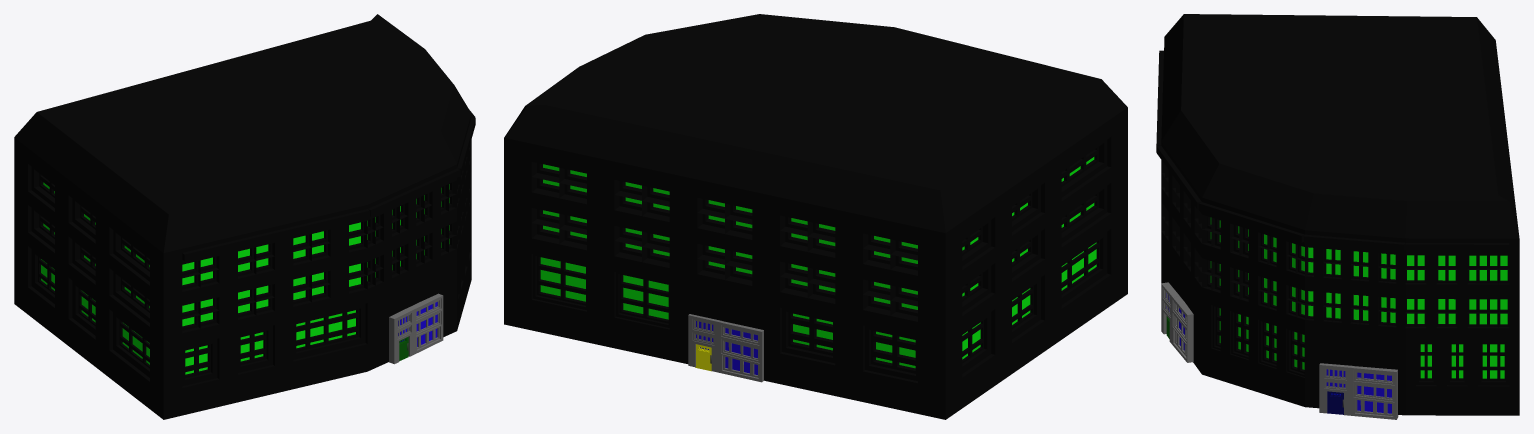
File: KingstonStreetxAltonRoadShops.fbx
3 views of the same model, side by side, from view 1: azimuth 30°, elevation 25°; view 2: azimuth 150°, elevation 25°; view 3: azimuth 270°, elevation 25° (orthographic). The views are drawn at different scales.
Visible parts, largest first — view 1: KSARS, Storefront; view 2: KSARS, Storefront.002; view 3: KSARS, Storefront.001, Storefront, Door.
Part boxes in pixels (<box>): KSARS: <box>14,14,475,419</box>; Storefront: <box>389,293,443,364</box>; KSARS: <box>504,14,1127,419</box>; Storefront.002: <box>688,314,763,382</box>; KSARS: <box>1156,14,1519,415</box>; Storefront.001: <box>1319,363,1398,419</box>; Storefront: <box>1161,282,1193,362</box>; Door: <box>1327,391,1343,414</box>.
Size of the model in its own units: 5035 by 2421 by 3791.
